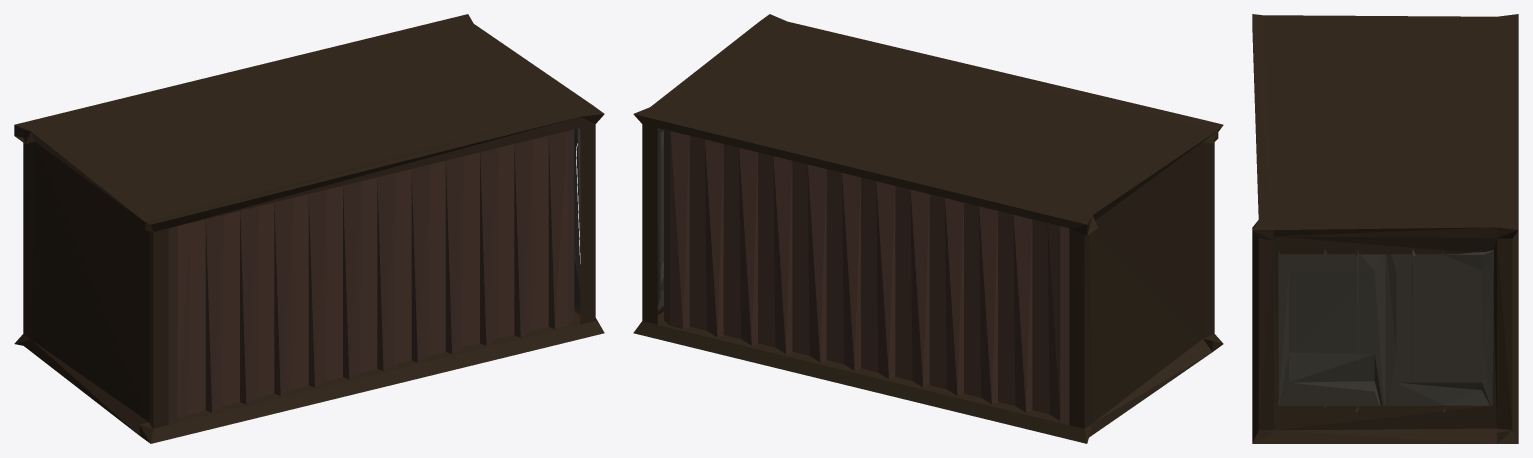
The model's file is rust-container.zfix-v14.lod2.glb.
The picture shows the model from 3 angles, left to right: view 1: azimuth 30°, elevation 25°; view 2: azimuth 150°, elevation 25°; view 3: azimuth 270°, elevation 25°; orthographic projection. The views are drawn at different scales.
Parts seen in each view (by area): view 1: frame_frame_0; view 2: frame_frame_0; view 3: frame_frame_0.
Part boxes in pixels (x1,y1,x2,y2): frame_frame_0: (14,14,604,443); frame_frame_0: (633,14,1223,443); frame_frame_0: (1252,14,1518,443).
Size of the model in its own units: 12.2 by 5.63 by 6.36.
